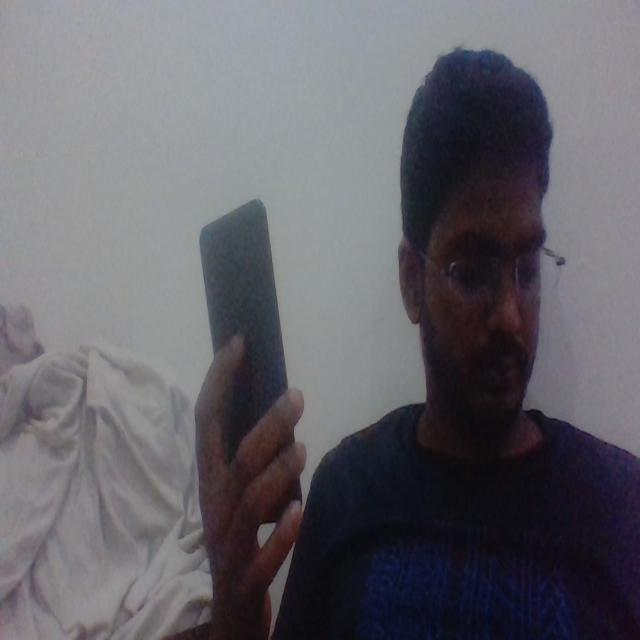Phone: (194, 196, 306, 524)
